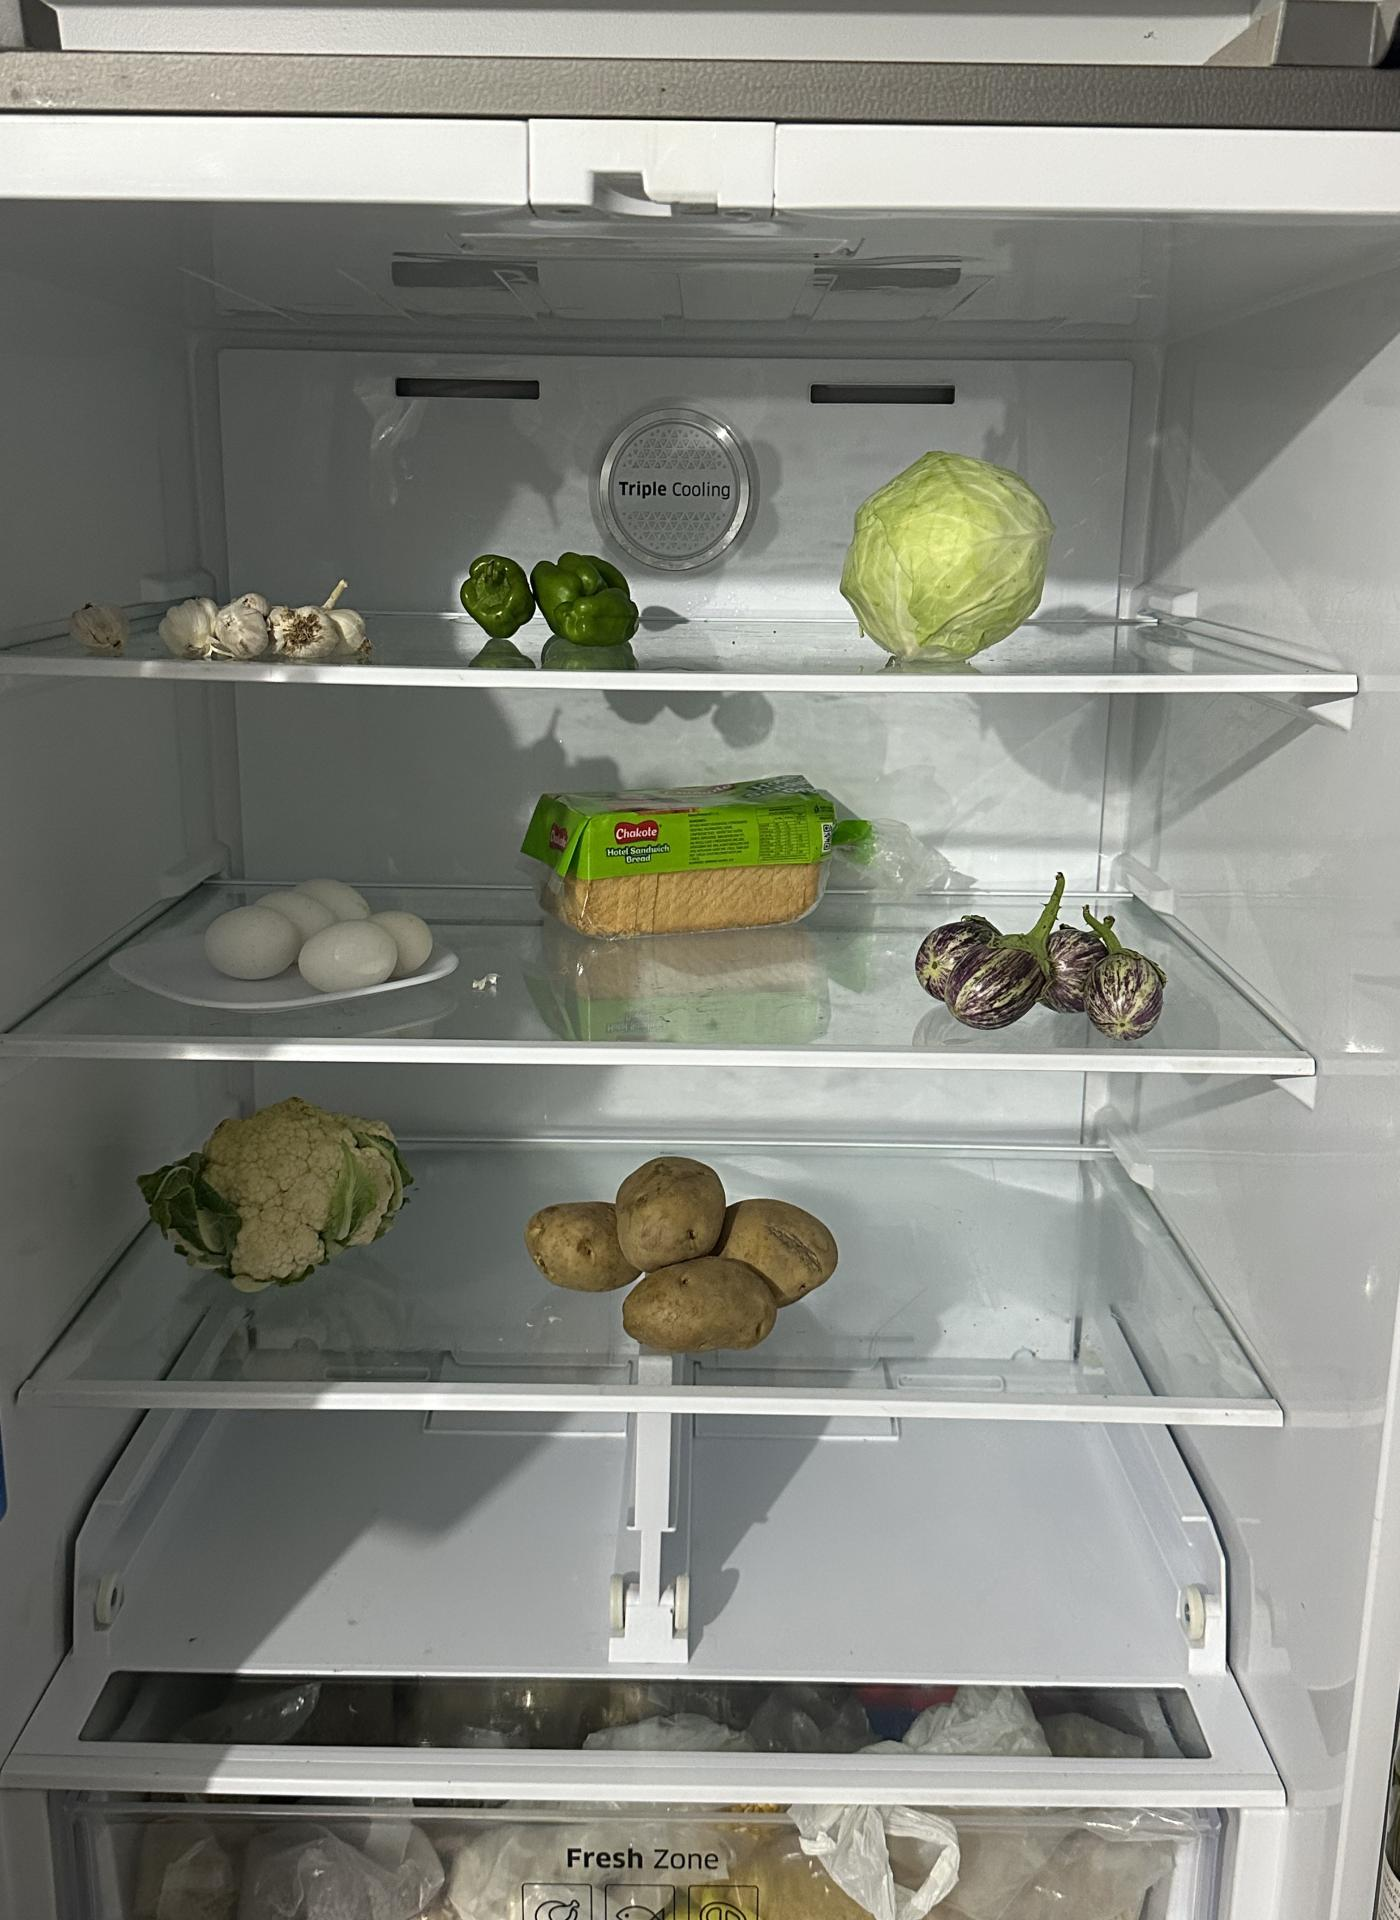bread: (520, 775, 847, 941), (1375, 1667, 1400, 1920)
brinjal: (918, 906, 1173, 1040)
cabbage: (844, 446, 1057, 660)
capsicum: (464, 552, 646, 657)
cauliflower: (149, 1102, 414, 1289)
egg: (195, 868, 449, 1002)
garlic: (171, 581, 377, 666)
potato: (529, 1157, 845, 1360)
